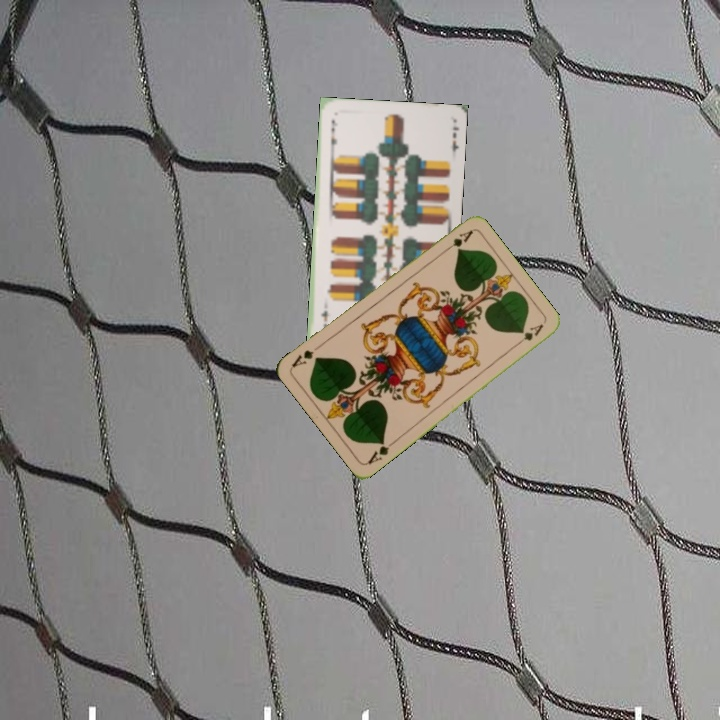E7: (326, 116, 340, 153)
GA: (364, 436, 398, 467), (439, 226, 475, 255)
